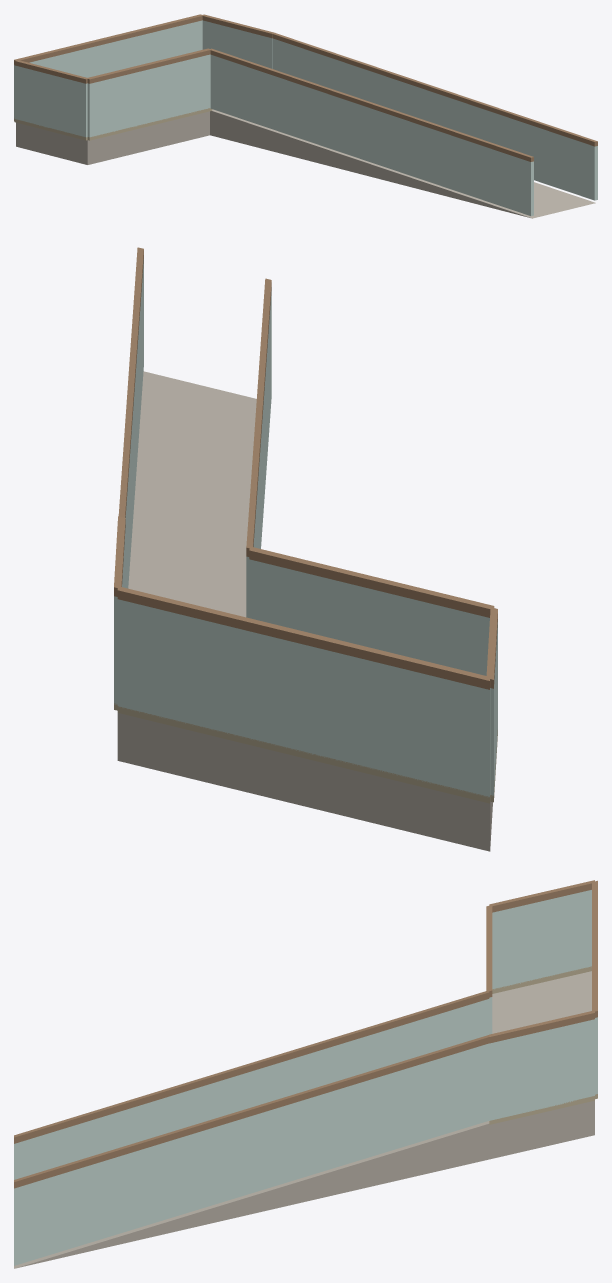
Rendered from CONVERSATION_794_r001.glb.
3 renders of one model, top to bottom at view 1: azimuth 30°, elevation 25°; view 2: azimuth 150°, elevation 25°; view 3: azimuth 270°, elevation 25°, orthographic. The views are drawn at different scales.
Visible parts, largest first — view 1: G2R_794_RearClosed_Infill, G2R_794_ContinuousRearRamp, G2R_794_ConversationOverlook, G2R_794_Fore_Infill, G2R_794_Outer_Infill, G2R_794_Inner_Infill, G2R_794_Ramp_L_guard_11, G2R_794_Ramp_R_guard_11, G2R_794_Ramp_R_guard_8, G2R_794_Ramp_R_guard_1, G2R_794_Ramp_R_guard_6, G2R_794_Ramp_R_guard_7 (+24 smaller); view 2: G2R_794_Fore_Infill, G2R_794_ContinuousRearRamp, G2R_794_ConversationOverlook, G2R_794_RearClosed_Infill, G2R_794_Fore_Handrail, G2R_794_RearClosed_Handrail, G2R_794_Fore_Foot, G2R_794_Outer_Infill; view 3: G2R_794_ContinuousRearRamp, G2R_794_Inner_Infill, G2R_794_ConversationOverlook, G2R_794_Outer_Infill, G2R_794_Ramp_L_guard_8, G2R_794_Ramp_L_guard_0, G2R_794_Ramp_L_guard_10, G2R_794_Ramp_L_guard_5, G2R_794_Ramp_L_guard_6, G2R_794_Ramp_L_guard_7, G2R_794_Ramp_L_guard_9, G2R_794_Ramp_L_guard_11 (+22 smaller).
Part boxes in pixels (left/top/right/bottom): G2R_794_RearClosed_Infill: left=87, top=54, right=210, bottom=137; G2R_794_ContinuousRearRamp: left=210, top=109, right=595, bottom=218; G2R_794_ConversationOverlook: left=16, top=109, right=212, bottom=164; G2R_794_Fore_Infill: left=14, top=20, right=202, bottom=117; G2R_794_Outer_Infill: left=14, top=65, right=87, bottom=137; G2R_794_Inner_Infill: left=202, top=20, right=272, bottom=68; G2R_794_Ramp_L_guard_11: left=568, top=137, right=597, bottom=200; G2R_794_Ramp_R_guard_11: left=504, top=153, right=533, bottom=215; G2R_794_Ramp_R_guard_8: left=423, top=126, right=450, bottom=188; G2R_794_Ramp_R_guard_1: left=235, top=63, right=262, bottom=125; G2R_794_Ramp_R_guard_6: left=369, top=108, right=396, bottom=170; G2R_794_Ramp_R_guard_7: left=396, top=117, right=423, bottom=179; G2R_794_Fore_Infill: left=117, top=599, right=490, bottom=797; G2R_794_ContinuousRearRamp: left=128, top=371, right=256, bottom=617; G2R_794_ConversationOverlook: left=117, top=713, right=492, bottom=851; G2R_794_RearClosed_Infill: left=249, top=559, right=489, bottom=675; G2R_794_Fore_Handrail: left=117, top=586, right=490, bottom=689; G2R_794_RearClosed_Handrail: left=249, top=546, right=494, bottom=617; G2R_794_Fore_Foot: left=117, top=706, right=490, bottom=803; G2R_794_Outer_Infill: left=490, top=622, right=497, bottom=796; G2R_794_ContinuousRearRamp: left=14, top=1121, right=489, bottom=1268; G2R_794_Inner_Infill: left=489, top=1019, right=594, bottom=1120; G2R_794_ConversationOverlook: left=489, top=971, right=594, bottom=1159; G2R_794_Outer_Infill: left=492, top=890, right=591, bottom=989; G2R_794_Ramp_L_guard_8: left=132, top=1140, right=172, bottom=1229; G2R_794_Ramp_L_guard_0: left=449, top=1043, right=489, bottom=1132; G2R_794_Ramp_L_guard_10: left=53, top=1164, right=93, bottom=1253; G2R_794_Ramp_L_guard_5: left=251, top=1104, right=291, bottom=1192; G2R_794_Ramp_L_guard_6: left=212, top=1116, right=251, bottom=1205; G2R_794_Ramp_L_guard_7: left=172, top=1128, right=211, bottom=1217; G2R_794_Ramp_L_guard_9: left=93, top=1152, right=132, bottom=1241; G2R_794_Ramp_L_guard_11: left=14, top=1176, right=53, bottom=1265.
Size of the model in its own units: 7.16 by 1.55 by 6.63.
